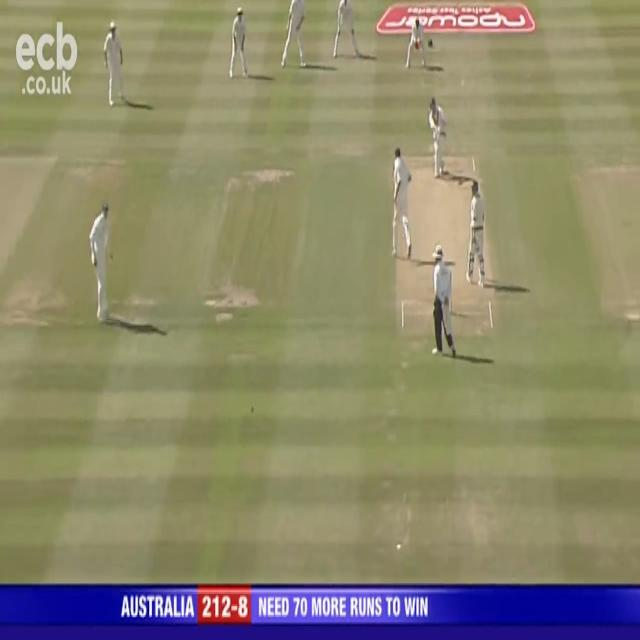ball: (249, 402, 255, 416)
